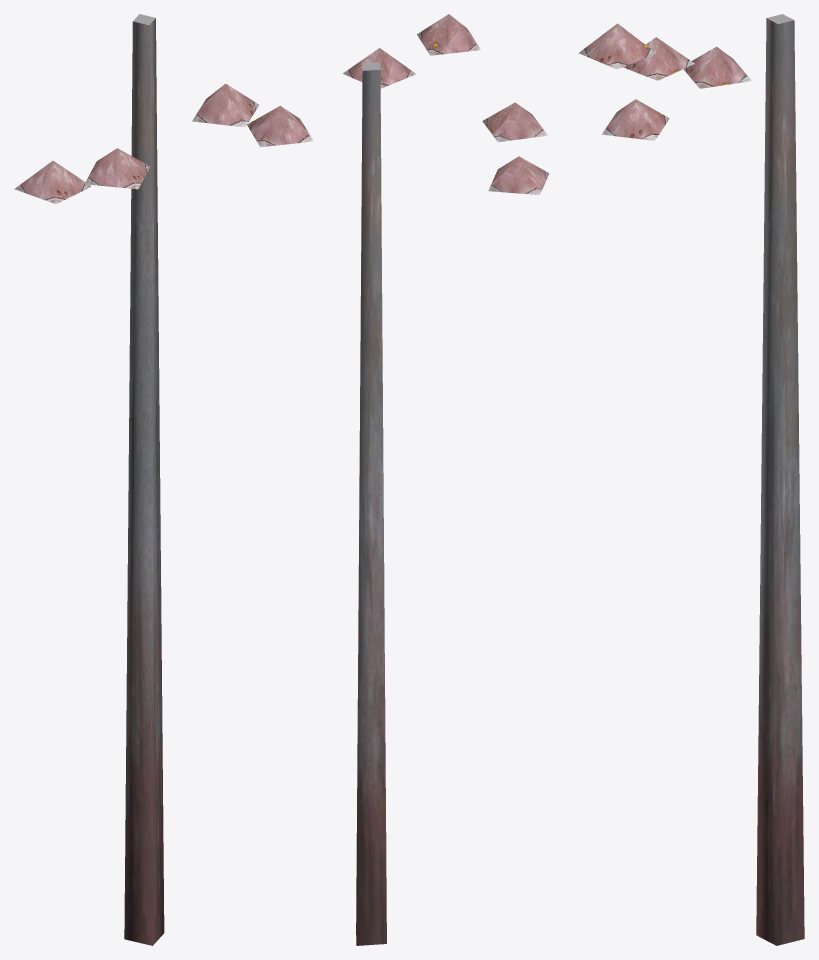
Rendered from mun_all_imprv_streetlamp_m_s02_l3.fbx.
3 views of the same model, side by side, from view 1: azimuth 30°, elevation 25°; view 2: azimuth 150°, elevation 25°; view 3: azimuth 270°, elevation 25° (orthographic). The views are drawn at different scales.
Parts seen in each view (by area): view 1: mesh_node; view 2: mesh_node; view 3: mesh_node.
Part boxes in pixels (left/top/right/bottom): mesh_node: left=14, top=14, right=313, bottom=945; mesh_node: left=342, top=14, right=549, bottom=945; mesh_node: left=578, top=14, right=804, bottom=945.
Bounding box in the file's own units: 0.8409 × 2.98 × 0.6663.
